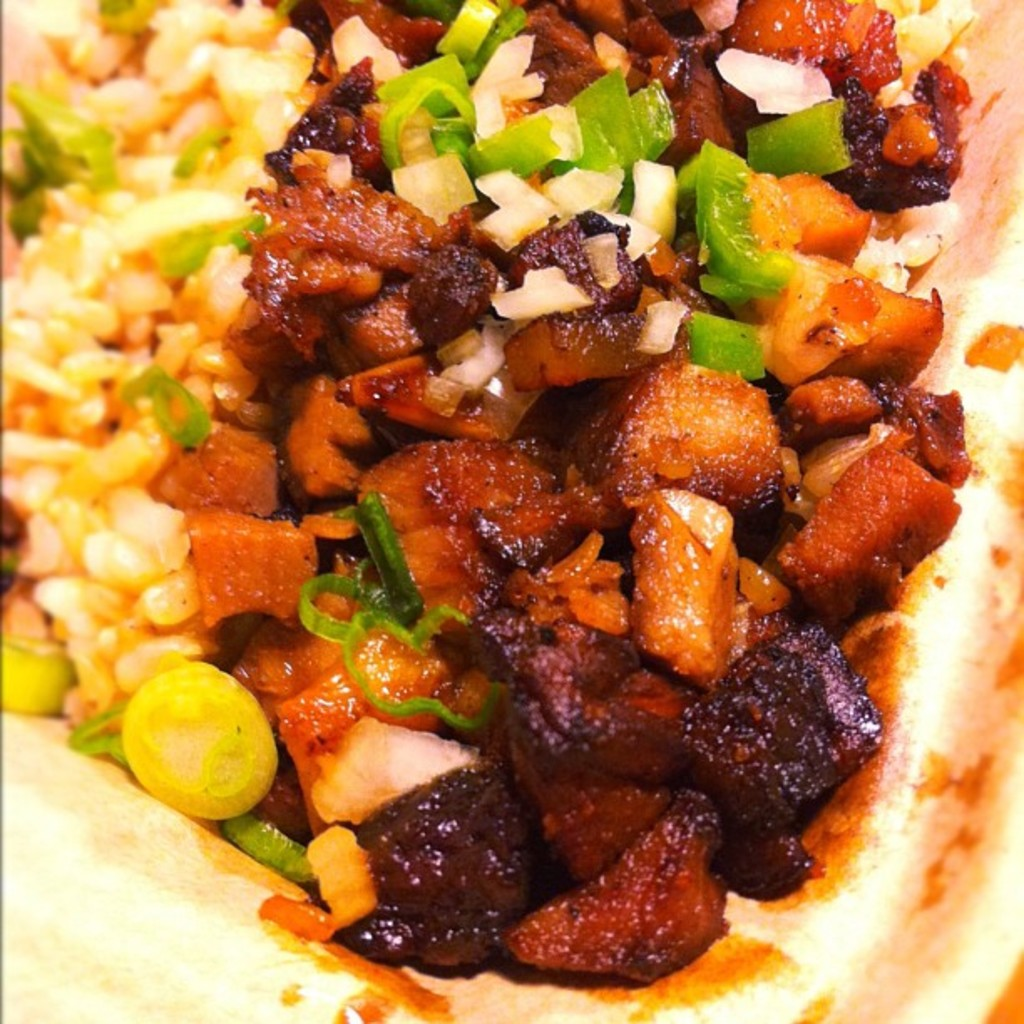taco: (0, 8, 1024, 1024)
